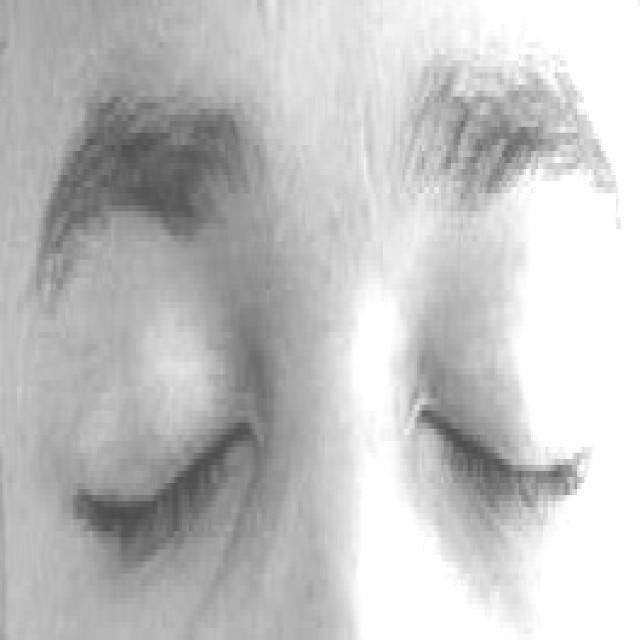real: (46, 194, 616, 598)
